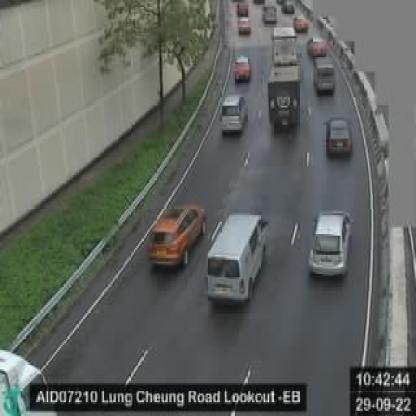Car: (203, 208, 269, 309), (143, 199, 208, 272), (303, 204, 356, 275), (214, 90, 250, 139), (321, 111, 354, 159), (311, 54, 342, 97), (305, 31, 333, 57), (230, 52, 251, 83), (292, 10, 310, 35), (261, 0, 277, 23), (237, 16, 252, 38)
Truck: (262, 24, 302, 144)
